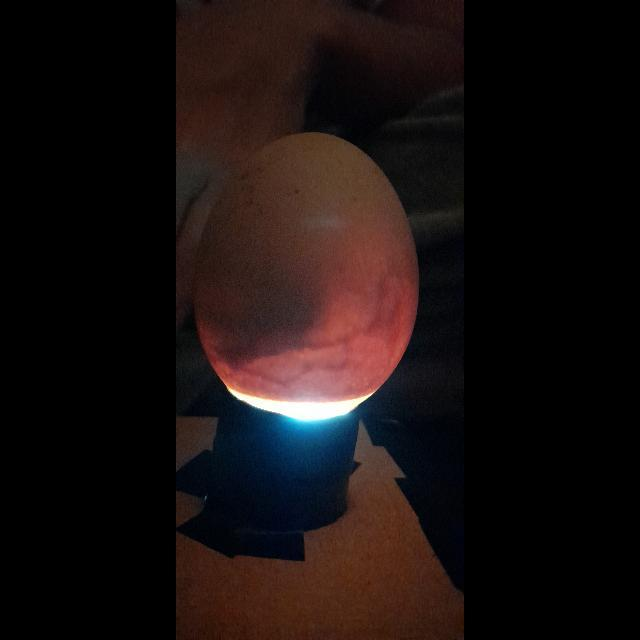Fertile: (197, 130, 419, 424)
